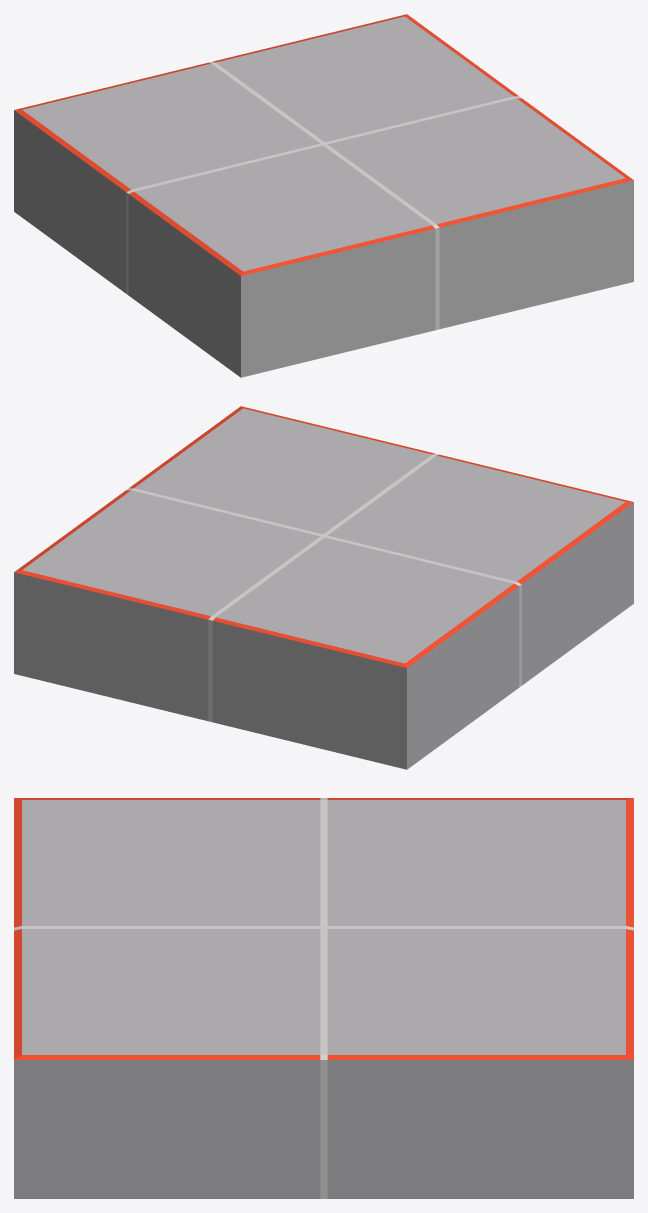
File: FloorLabs.fbx
3 views of the same model, one above another, from view 1: azimuth 30°, elevation 25°; view 2: azimuth 150°, elevation 25°; view 3: azimuth 270°, elevation 25° (orthographic). The views are drawn at different scales.
Visible parts, largest first — view 1: Floor_labs; view 2: Floor_labs; view 3: Floor_labs.
Part boxes in pixels (x1=…): Floor_labs: x1=14, y1=14, x2=633, y2=377; Floor_labs: x1=14, y1=406, x2=633, y2=769; Floor_labs: x1=14, y1=798, x2=633, y2=1198.
Size of the model in its own units: 400 by 100 by 400.
